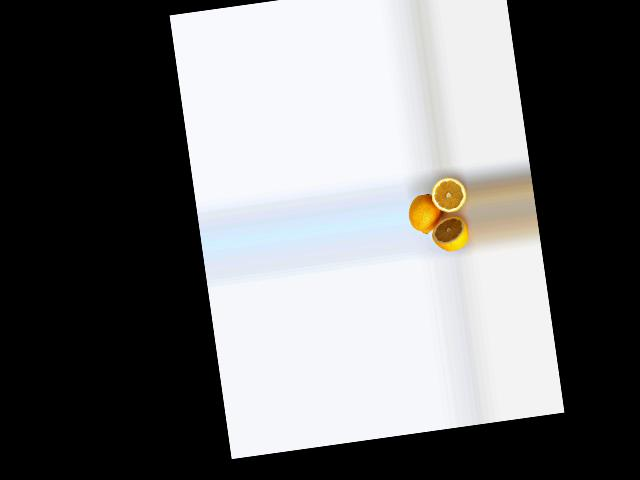lemon: (405, 188, 443, 239)
